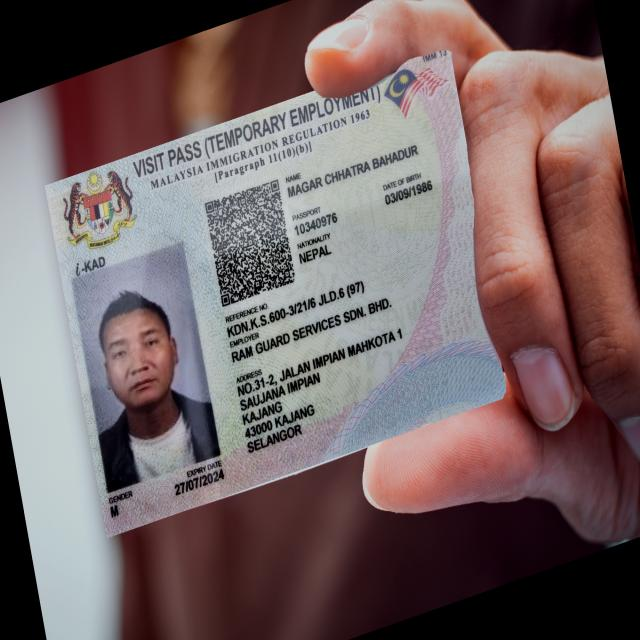ikad-temp: (43, 47, 507, 538)
